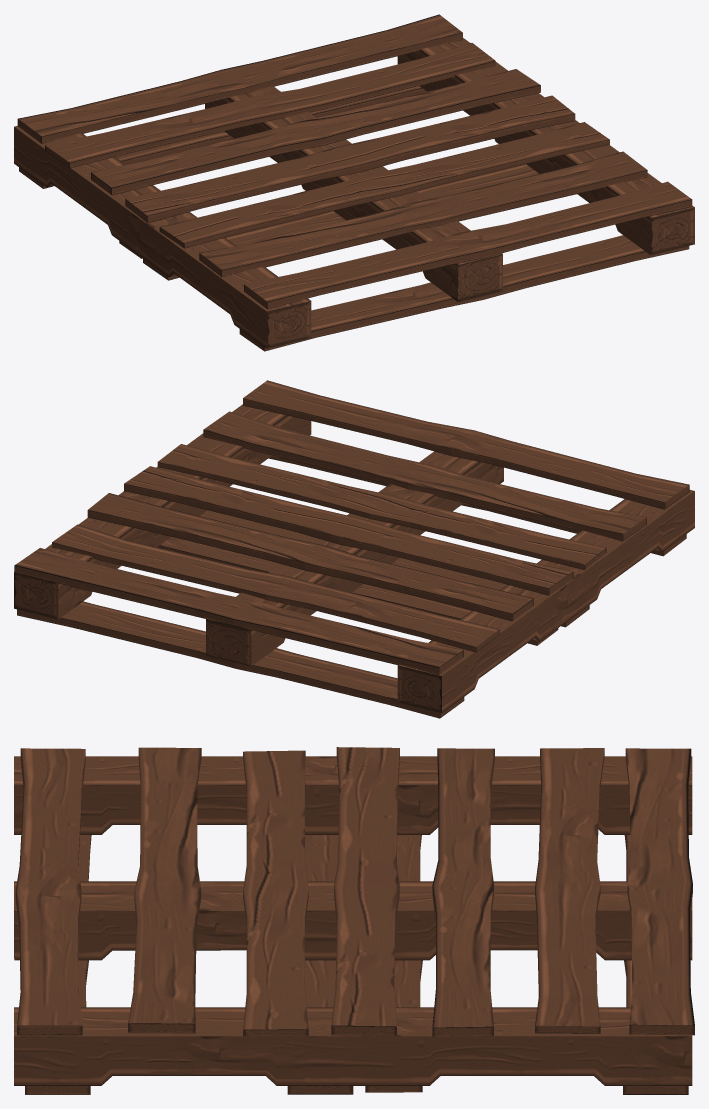
Rendered from pallet.fbx.
3 renders of one model, top to bottom at view 1: azimuth 30°, elevation 25°; view 2: azimuth 150°, elevation 25°; view 3: azimuth 270°, elevation 25°, orthographic. The views are drawn at different scales.
Visible parts, largest first — view 1: pallet; view 2: pallet; view 3: pallet.
Boxes of the visible parts, box(x1,y1,x2,y2) form: pallet: box(14, 14, 694, 351); pallet: box(14, 380, 694, 718); pallet: box(14, 747, 694, 1094).
Bounding box in the file's own units: 74.6 × 8.63 × 76.08.
Materials: 1 (1 with a texture image).
